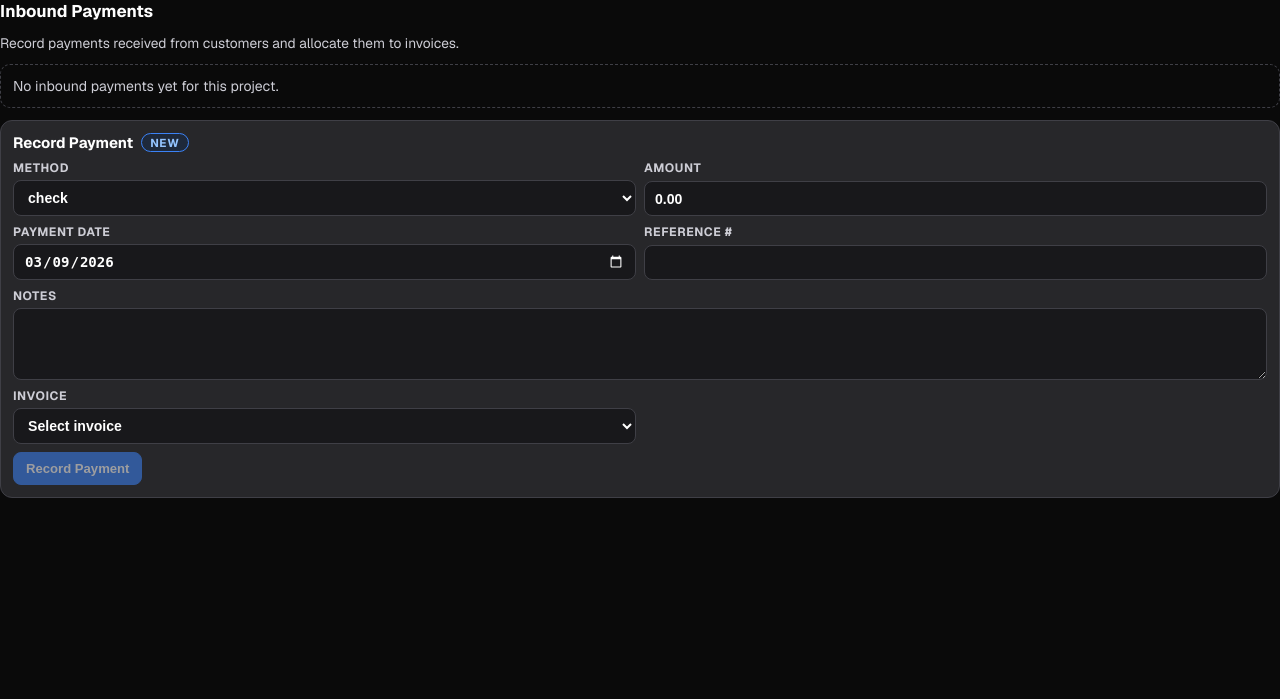
Test: PaymentRecorder › creates a new payment via POST with required target
Note: Select a target invoice
Select "Invoice #100 (due $5000.00)" in the 2nd dropdown named "Select invoice". click: (324, 426)
box: [13,408,636,444]
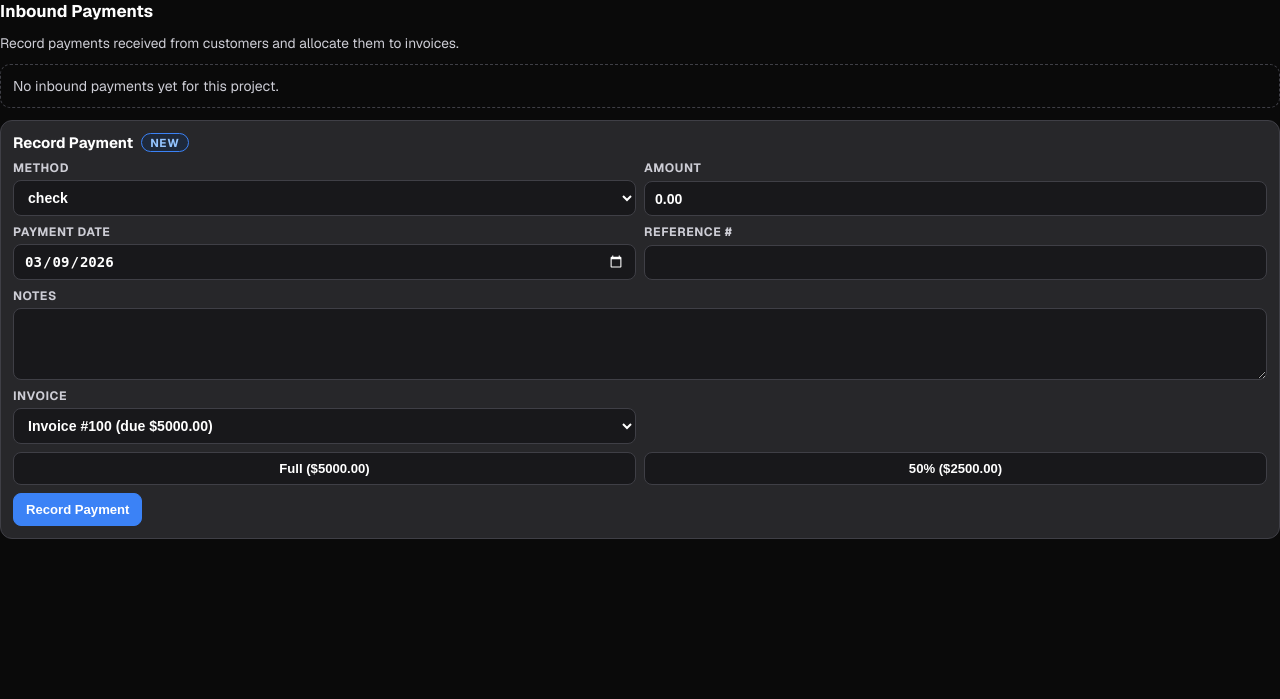
Click the button "Record Payment". click: click(78, 510)
box: [13,493,142,526]
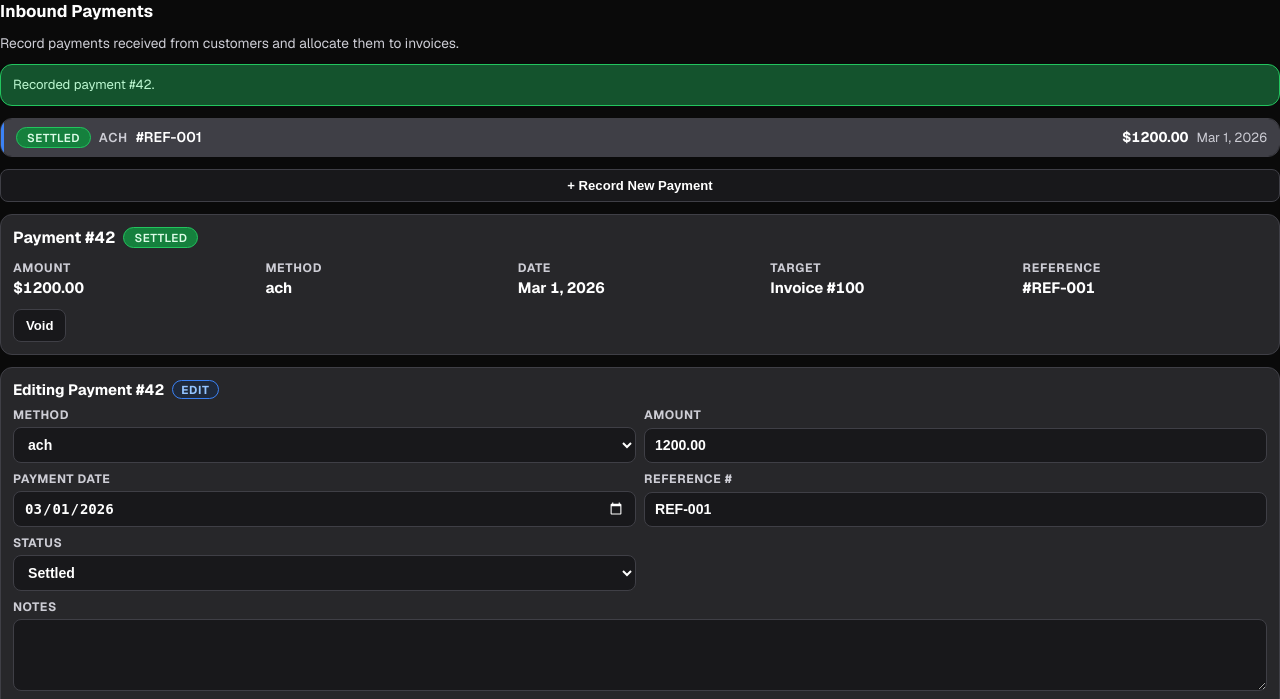
Now the text "Recorded payment #42." is shown, box [0,64,1279,106]
